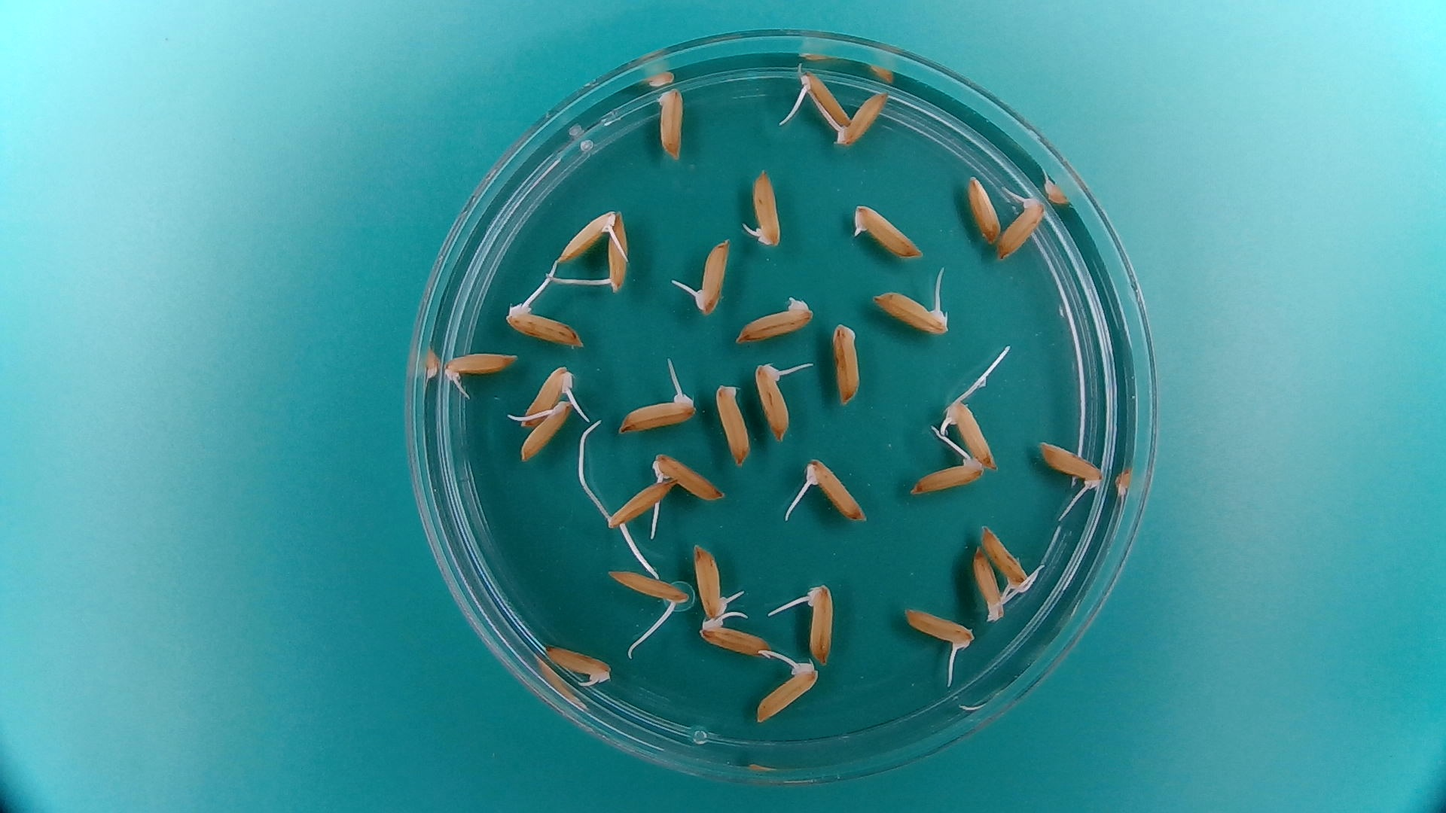no: (829, 318, 864, 407), (964, 172, 1003, 245), (651, 83, 685, 162)
yes: (848, 198, 929, 262), (731, 291, 818, 346), (749, 660, 822, 725), (599, 477, 678, 534), (517, 393, 579, 464), (648, 449, 731, 502), (803, 461, 872, 524), (552, 204, 619, 268), (981, 524, 1039, 595), (940, 400, 998, 470), (1034, 439, 1109, 491), (514, 364, 576, 426), (711, 378, 754, 467), (873, 288, 951, 337), (751, 357, 795, 443), (740, 165, 785, 249), (792, 66, 854, 126), (899, 605, 974, 653), (502, 305, 581, 350), (613, 388, 693, 432), (690, 233, 732, 316), (833, 87, 890, 148), (996, 188, 1042, 263), (608, 568, 688, 611), (697, 615, 776, 658), (908, 455, 987, 497), (542, 643, 615, 687), (691, 543, 732, 621), (800, 580, 837, 665), (972, 546, 1011, 623), (445, 346, 522, 382), (603, 212, 633, 297)
